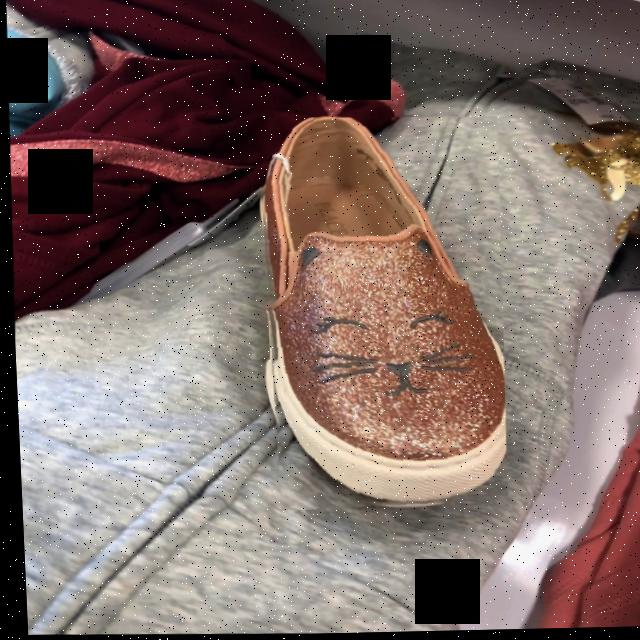shoe: (261, 118, 502, 507)
